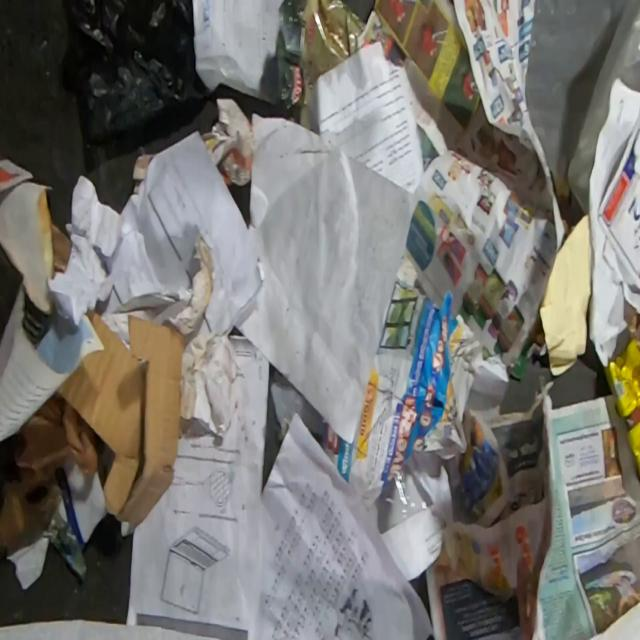cardboard: (54, 308, 187, 528), (52, 223, 72, 273)
soft_plastic: (60, 0, 208, 145), (274, 0, 366, 128), (604, 336, 640, 481)
